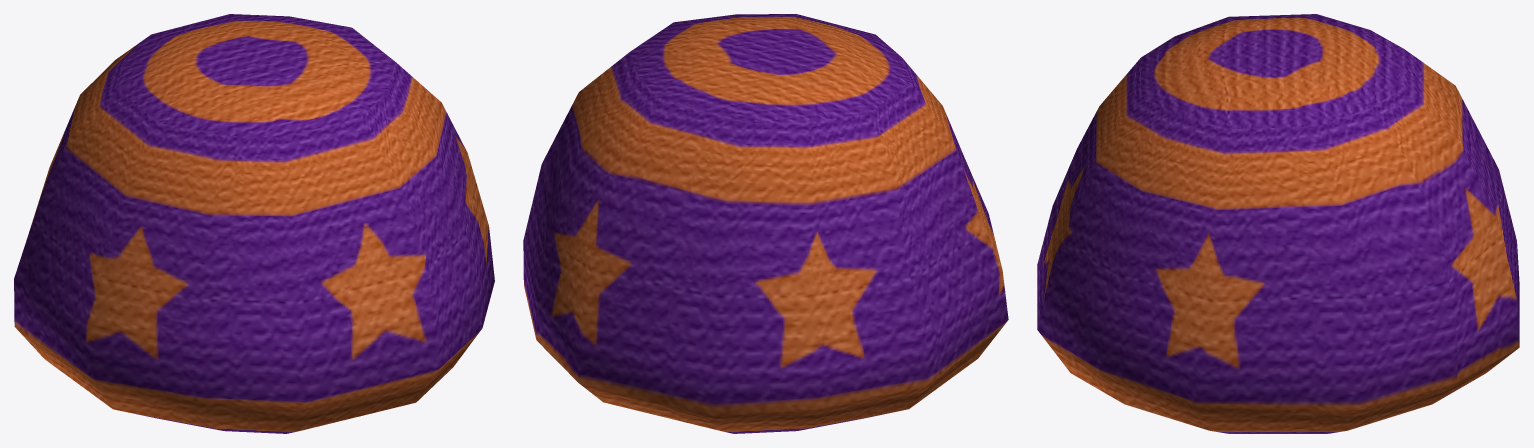
The model's file is HackeySack_PurpleOrange_Scaled.fbx.
The picture shows the model from 3 angles, left to right: view 1: azimuth 30°, elevation 25°; view 2: azimuth 150°, elevation 25°; view 3: azimuth 270°, elevation 25°; orthographic projection.
Visible parts, largest first — view 1: Hackey2; view 2: Hackey2; view 3: Hackey2.
Boxes of the visible parts, bbox=[...] form: Hackey2: bbox=[14, 14, 494, 433]; Hackey2: bbox=[523, 14, 1008, 433]; Hackey2: bbox=[1037, 14, 1519, 433].
Bounding box in the file's own units: 8.99 × 6.98 × 9.25.
